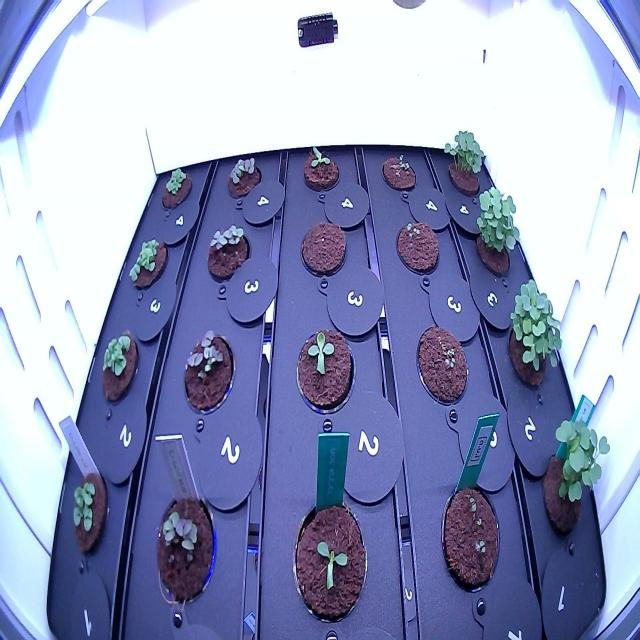germination: (538, 410, 612, 544), (432, 477, 504, 604), (150, 485, 220, 612), (502, 268, 567, 396), (174, 318, 241, 418), (410, 315, 472, 414), (464, 181, 522, 284), (66, 456, 112, 562), (439, 119, 493, 200), (202, 216, 253, 292), (96, 324, 142, 407), (392, 213, 445, 284), (125, 231, 170, 295), (219, 150, 268, 204), (377, 142, 421, 200), (158, 161, 194, 216)
pod: (296, 213, 350, 286)
young: (287, 483, 379, 631), (293, 316, 361, 418), (298, 140, 344, 202)
